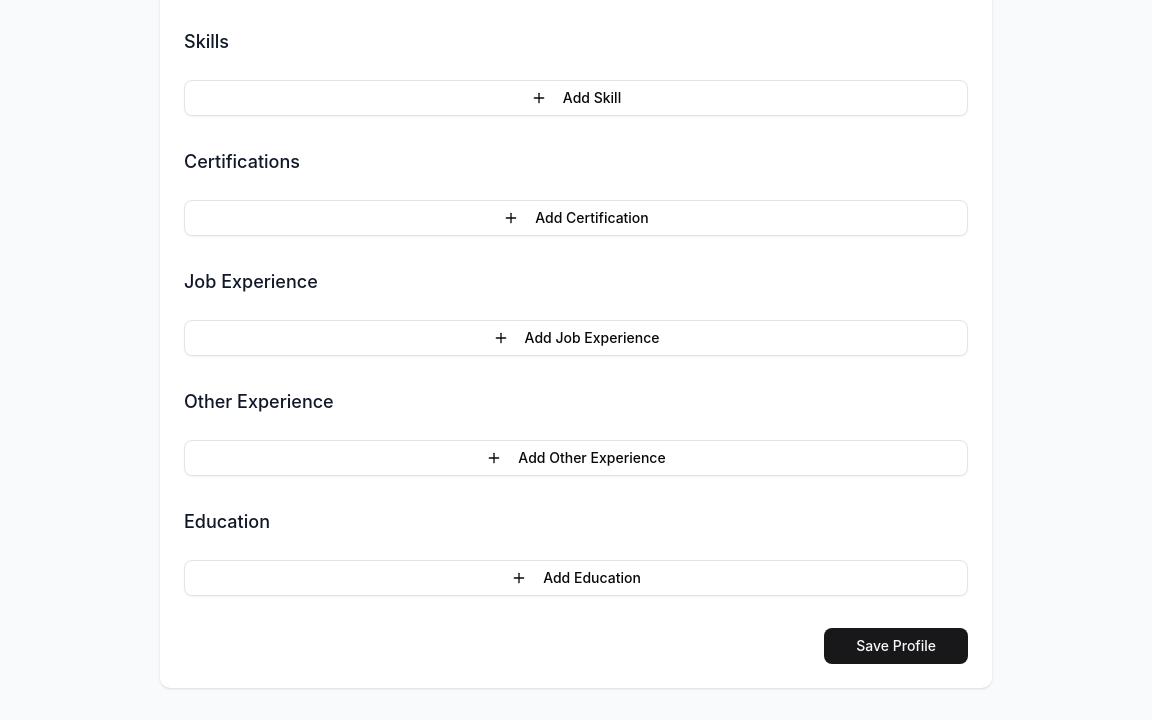
ProfilePage - Basic Tests › Form Interactions › should show loading state during form submission
(page scrolled)
Note: Submit form
Click the button "Save Profile".
click(896, 646)  # box [824,628,968,664]
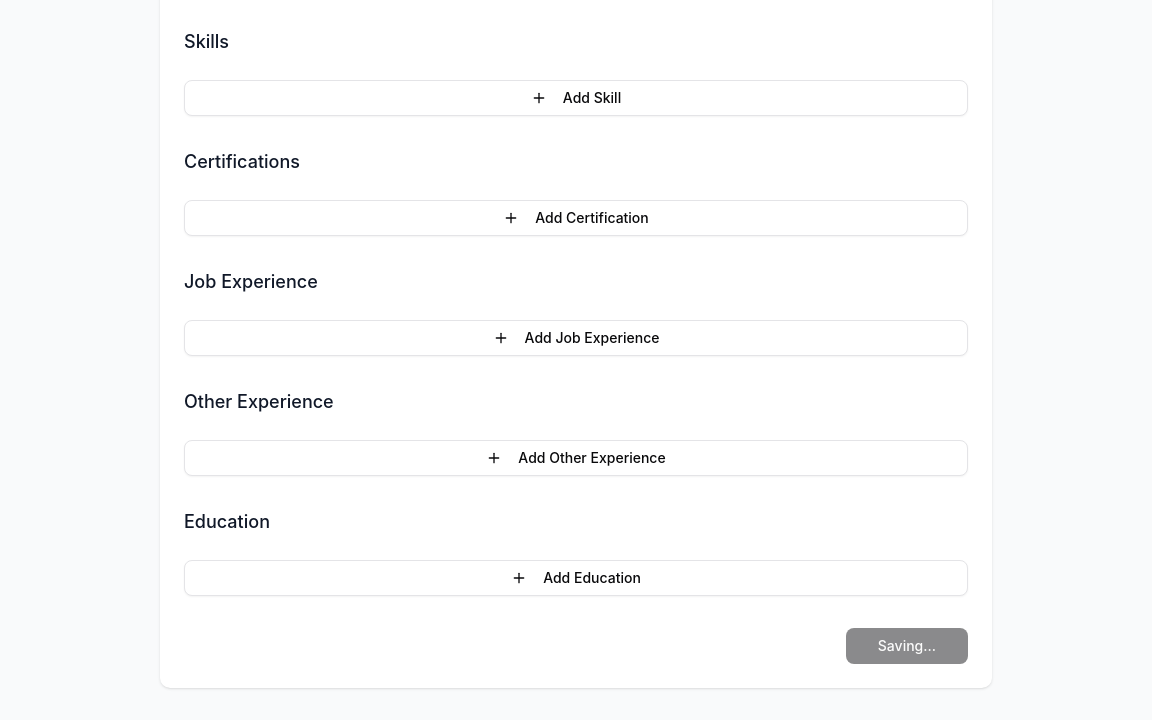
Expected: the button "Saving..." is disabled, [846,628,968,664]
